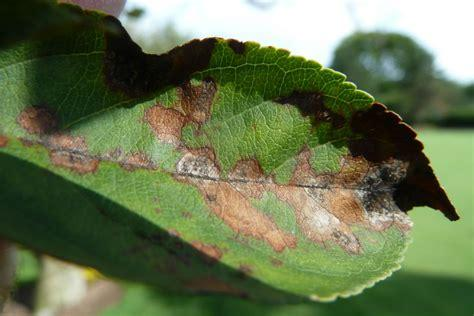late_blight: (105, 35, 458, 253), (17, 106, 98, 172), (275, 90, 348, 127), (120, 153, 153, 167)
